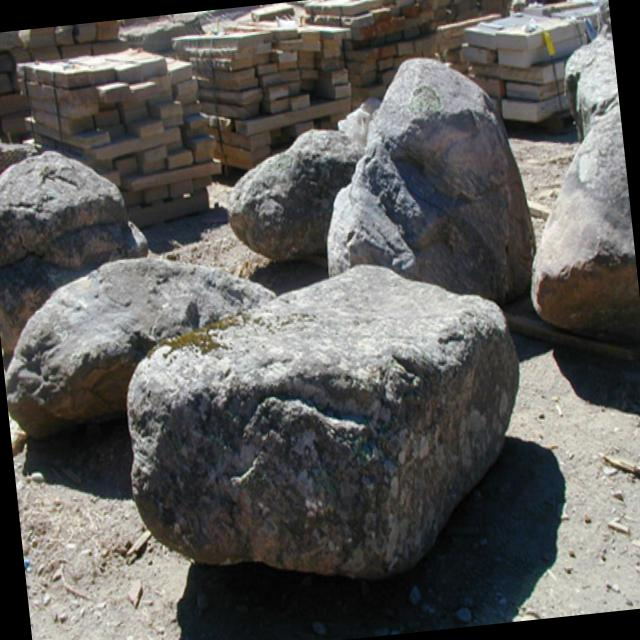stone: (126, 267, 518, 578), (326, 58, 534, 301), (5, 257, 272, 436), (0, 150, 147, 357), (531, 102, 640, 340)
white-sand: (13, 335, 640, 640)
